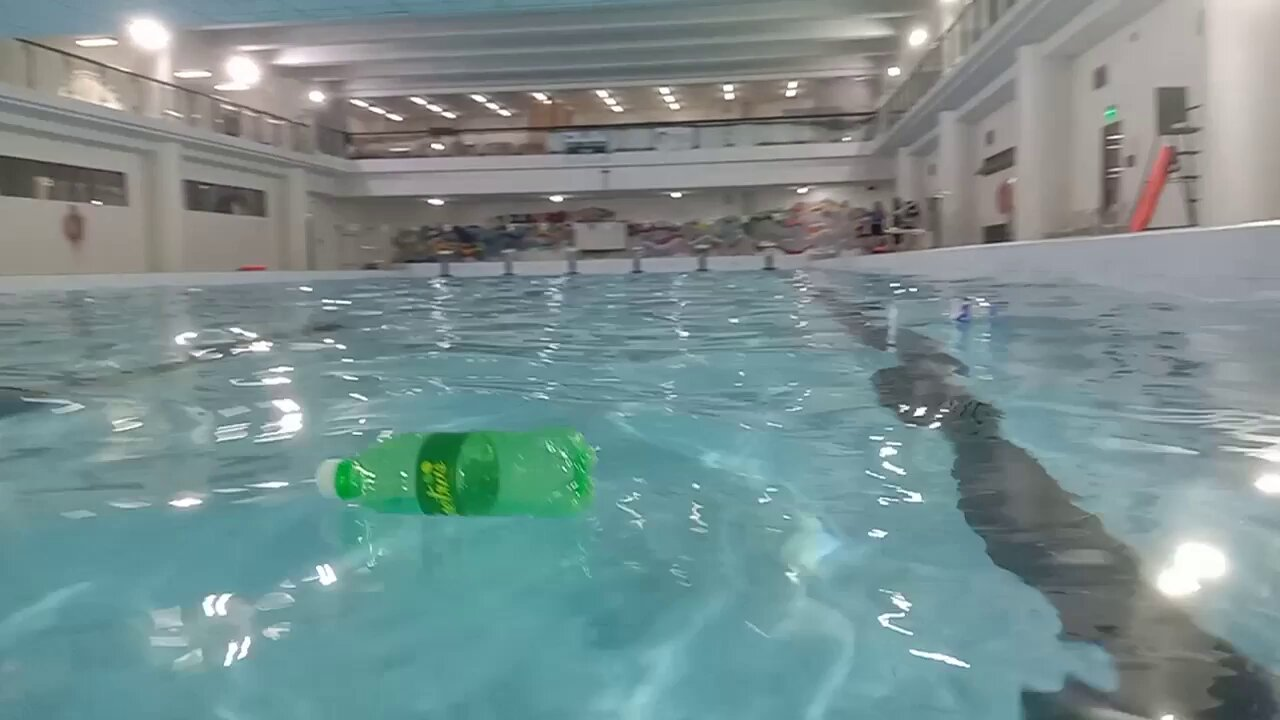plastic_bottle: (316, 431, 595, 516), (887, 291, 999, 326)
